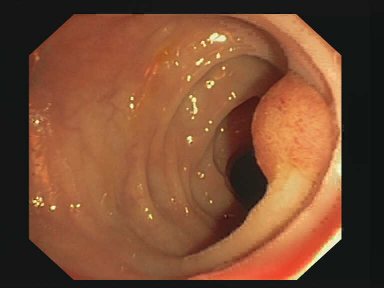polyp: (229, 78, 343, 187)
